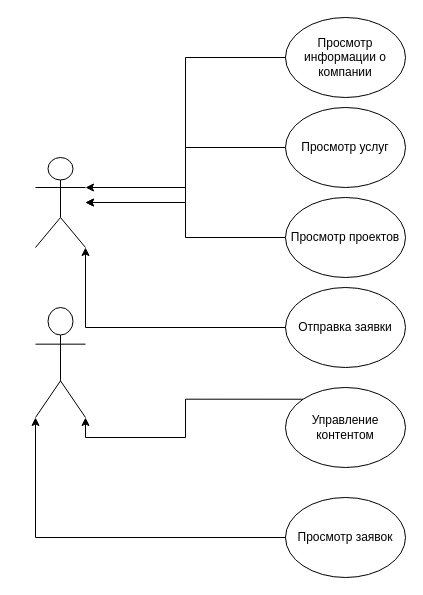
Image size: 423x595. Some labels were removed from this diagram. The shapes that lost their labels are listed below. From the top down, each one's box as (x1, y1, x2, y2) in pixels, then its label:
(34, 156, 86, 248): Клиент
(34, 306, 86, 418): Администратор
